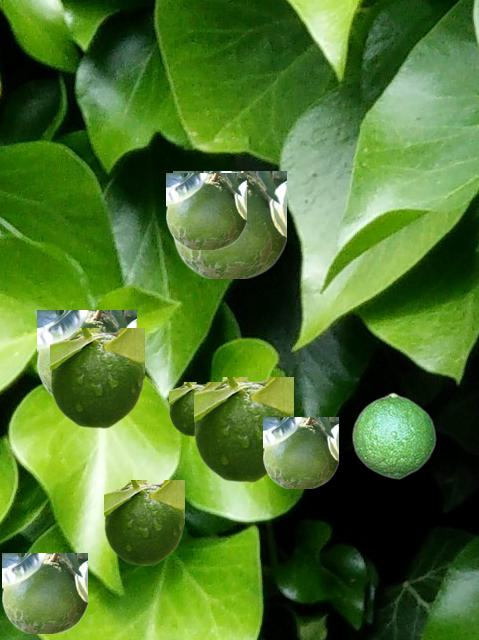dalandan: (173, 171, 285, 277), (194, 377, 292, 481), (50, 328, 143, 427), (37, 310, 135, 395), (351, 392, 435, 478), (2, 553, 86, 632), (104, 480, 183, 564), (166, 173, 245, 248), (263, 417, 337, 487), (169, 382, 218, 435)
